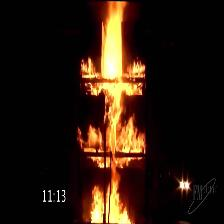fire: (96, 1, 133, 224)
